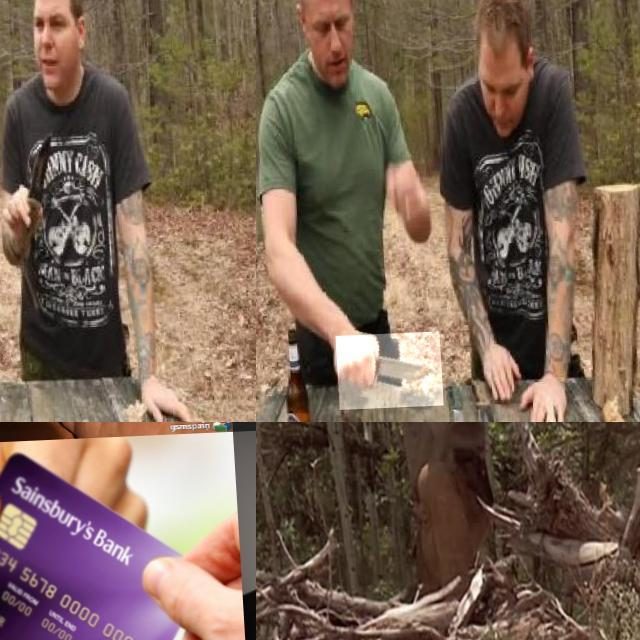-: (330, 334, 437, 412), (0, 33, 36, 195), (0, 221, 25, 302)
gun-knife-thesis - v11 Yolov5 augmented: (413, 422, 459, 445)
